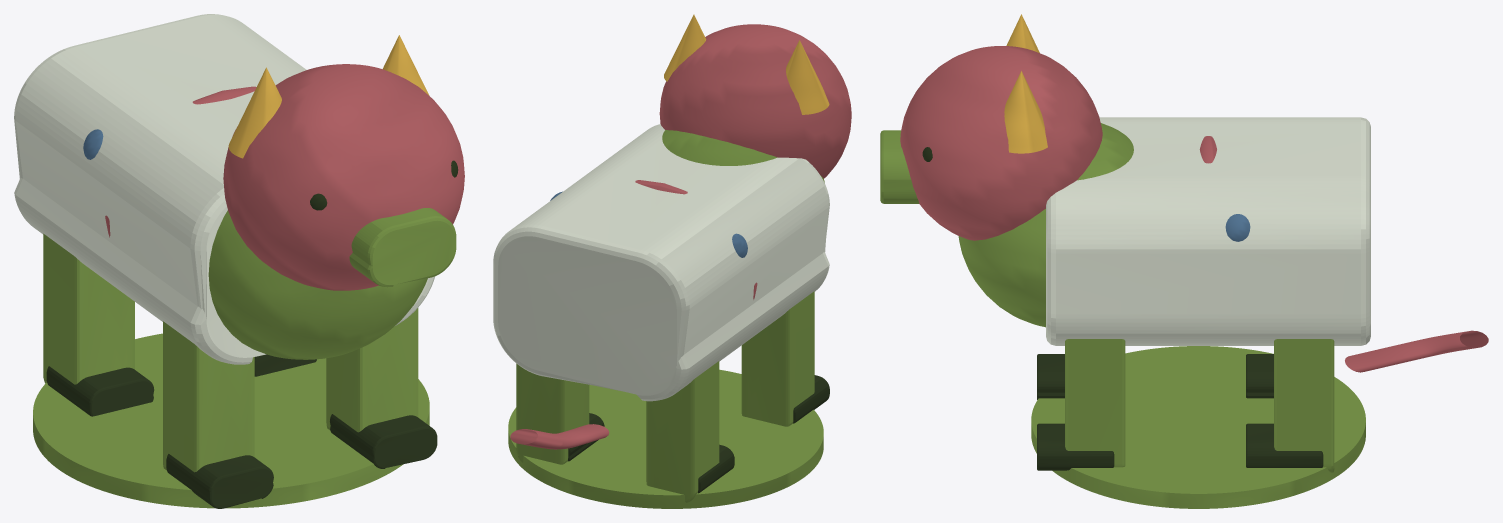
File: 0307_古生代动物图鉴_真双足蜥.glb
The picture shows the model from 3 angles, left to right: view 1: azimuth 30°, elevation 25°; view 2: azimuth 150°, elevation 25°; view 3: azimuth 270°, elevation 25°; orthographic projection. The views are drawn at different scales.
Visible parts, largest first — view 1: card_0307; view 2: card_0307; view 3: card_0307.
Part boxes in pixels (box(x1,y1,x2,y2)): card_0307: box(14, 14, 464, 508); card_0307: box(493, 14, 851, 508); card_0307: box(880, 14, 1488, 508).
Size of the model in its own units: 0.808 by 1 by 1.4.
